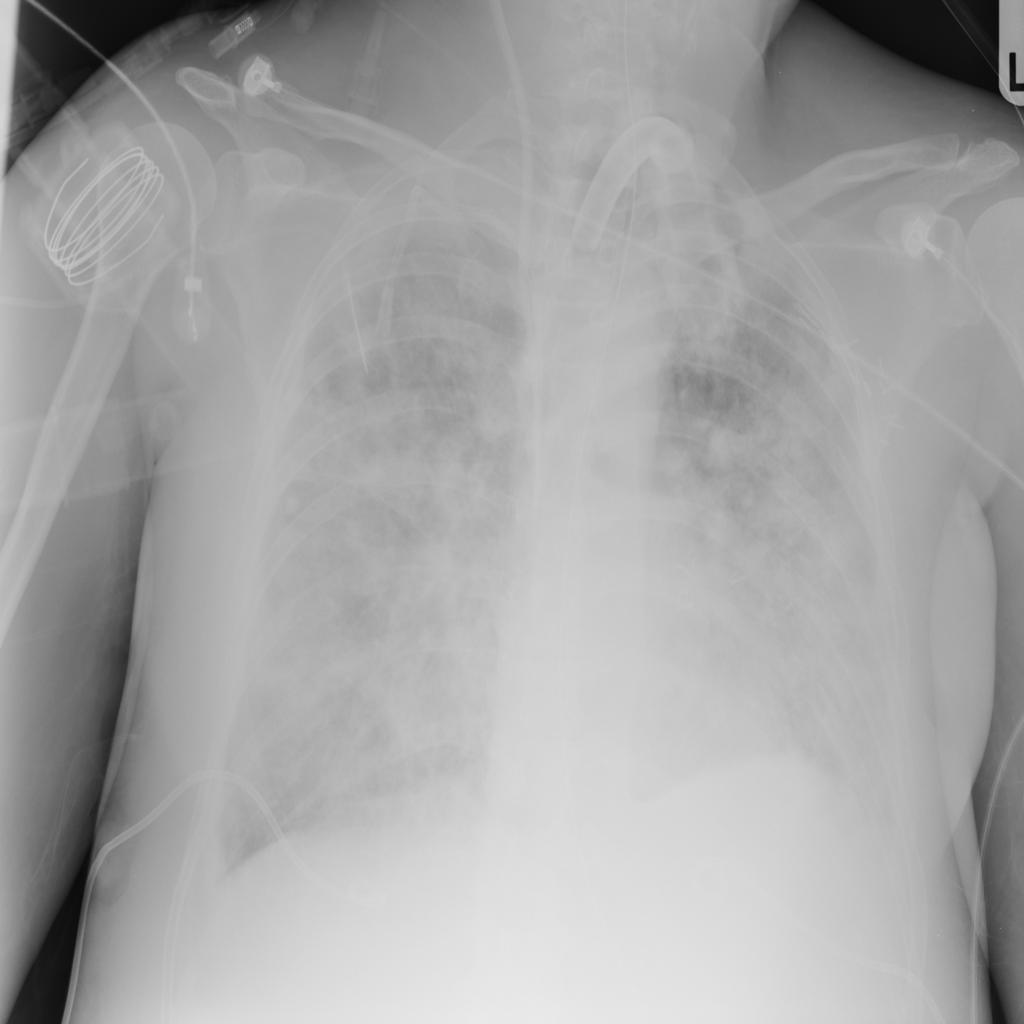nodule: (277, 481, 309, 524)
